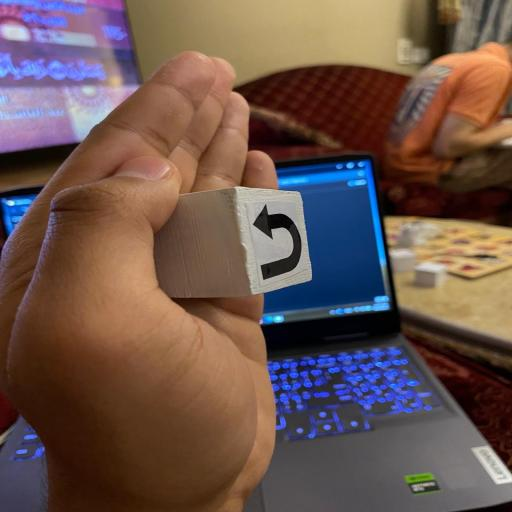Undo: (150, 183, 315, 301)
